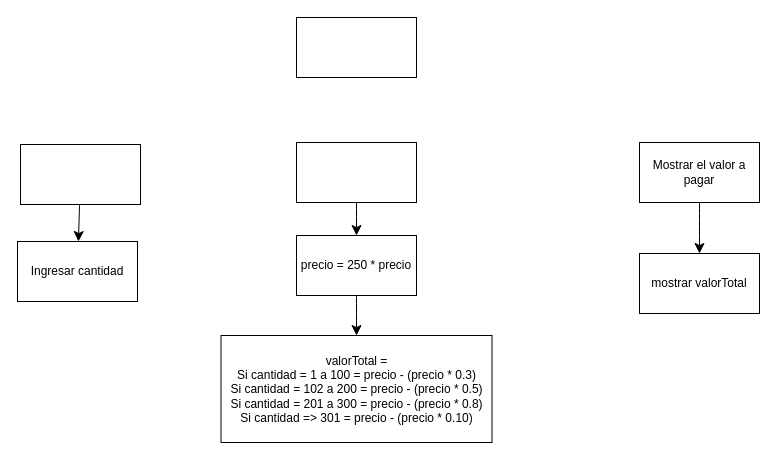
Image size: 777x460. Some labels were removed from this diagram. The box of each missing label's shape, as (x1, y1, x2, y2) in pixels:
calcular precio: (296, 142, 416, 202)
Distribuidora de huevos: (296, 16, 416, 78)
Entradas: (20, 144, 140, 204)
